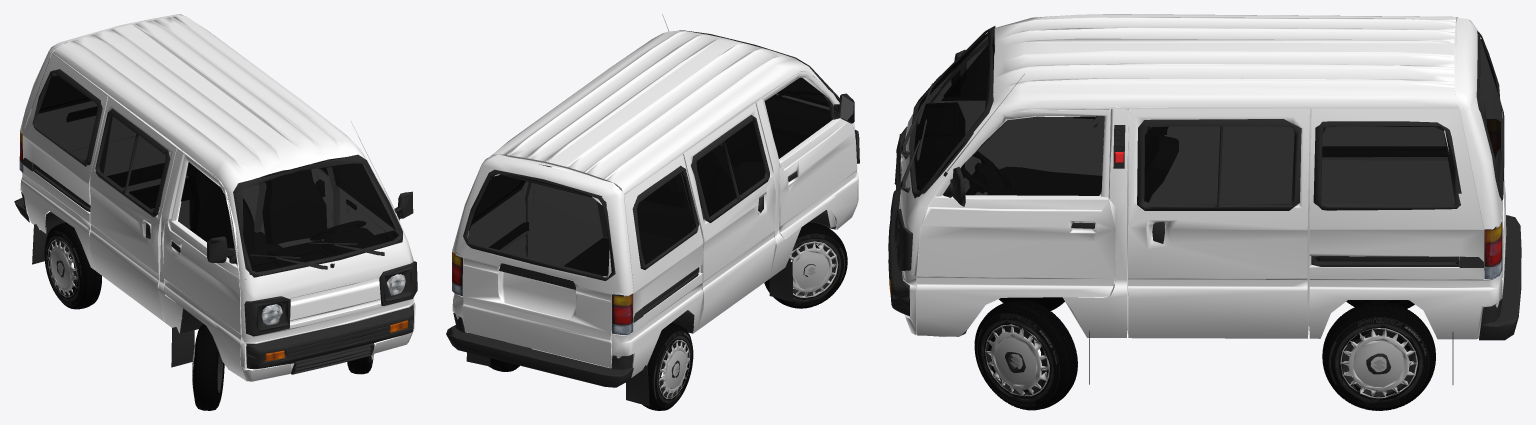
Rendered from kei_van_lod1.glb.
3 views of the same model, side by side, from view 1: azimuth 30°, elevation 25°; view 2: azimuth 150°, elevation 25°; view 3: azimuth 270°, elevation 25° (orthographic). The views are drawn at different scales.
Visible parts, largest first — view 1: Object_124, Object_15, Object_116, Object_5, Object_122, Object_9, Object_70; view 2: Object_124, Object_15, Object_116, Object_5, Object_122, Object_9, Object_64; view 3: Object_124, Object_116, Object_15, Object_5, Object_9, Object_64.
Part boxes in pixels (x1,y1,x2,y2): Object_124: [20, 14, 415, 381]; Object_15: [14, 42, 417, 392]; Object_116: [36, 70, 398, 272]; Object_5: [44, 199, 373, 410]; Object_122: [23, 158, 288, 365]; Object_9: [47, 239, 373, 389]; Object_70: [261, 274, 405, 325]; Object_124: [452, 30, 858, 377]; Object_15: [446, 30, 859, 406]; Object_116: [467, 73, 839, 275]; Object_5: [489, 222, 847, 410]; Object_122: [565, 201, 836, 333]; Object_9: [659, 241, 838, 398]; Object_64: [452, 252, 632, 334]; Object_124: [899, 14, 1506, 339]; Object_116: [914, 33, 1502, 205]; Object_15: [888, 26, 1521, 397]; Object_5: [974, 297, 1435, 410]; Object_9: [985, 324, 1417, 398]; Object_64: [1484, 119, 1502, 278].
Size of the model in its own units: 1.62 by 1.88 by 3.3.
16 materials, 4 textured.
